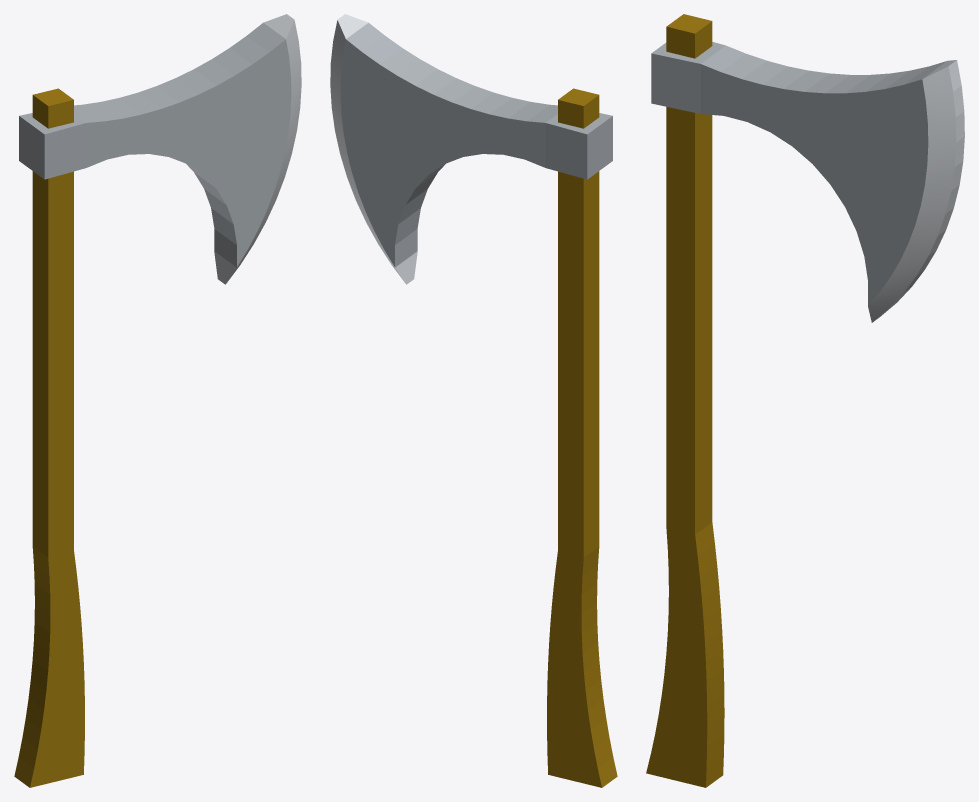
The model's file is scene_ZGf9wRRcbV.glb.
3 views of the same model, side by side, from view 1: azimuth 30°, elevation 25°; view 2: azimuth 150°, elevation 25°; view 3: azimuth 330°, elevation 25° (orthographic). The views are drawn at different scales.
Parts seen in each view (by area): view 1: Model; view 2: Model; view 3: Model.
Boxes of the visible parts, x1,y1,x2,y2 form: Model: [14, 14, 301, 787]; Model: [330, 14, 617, 787]; Model: [646, 14, 964, 787].
Size of the model in its own units: 0.3195 by 0.775 by 0.0512.
